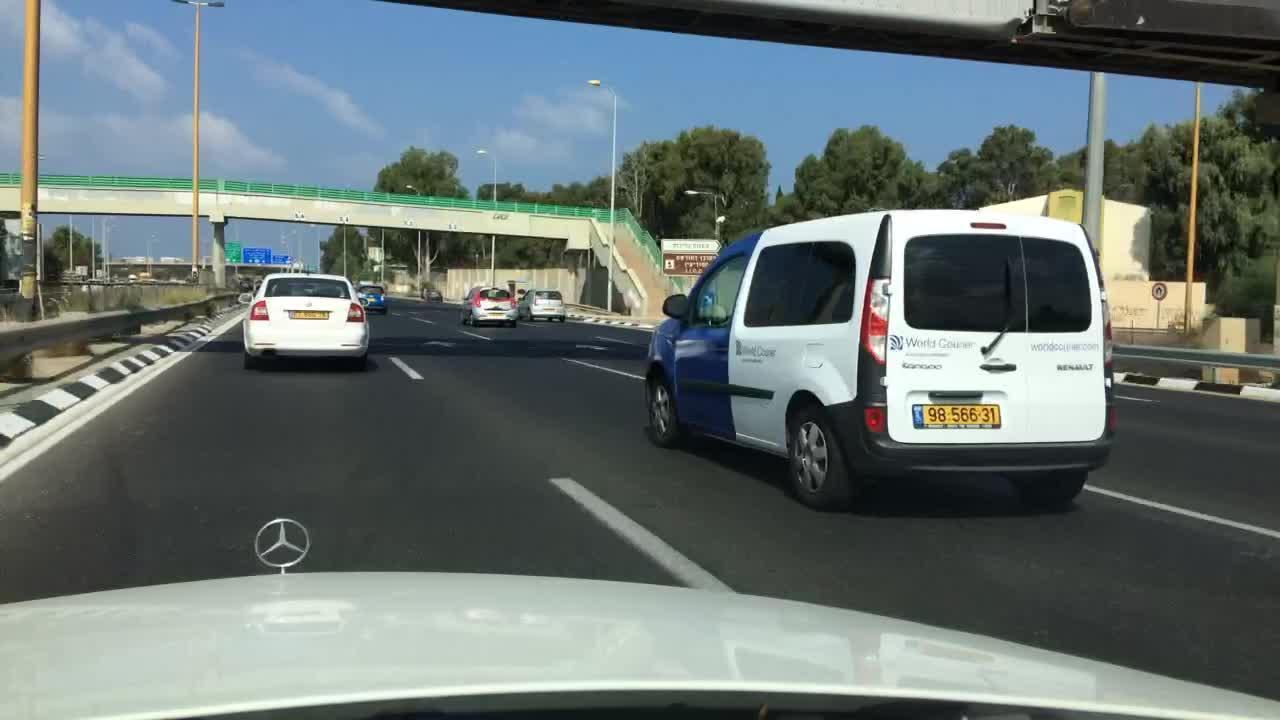Mercedes: (247, 517, 316, 573)
